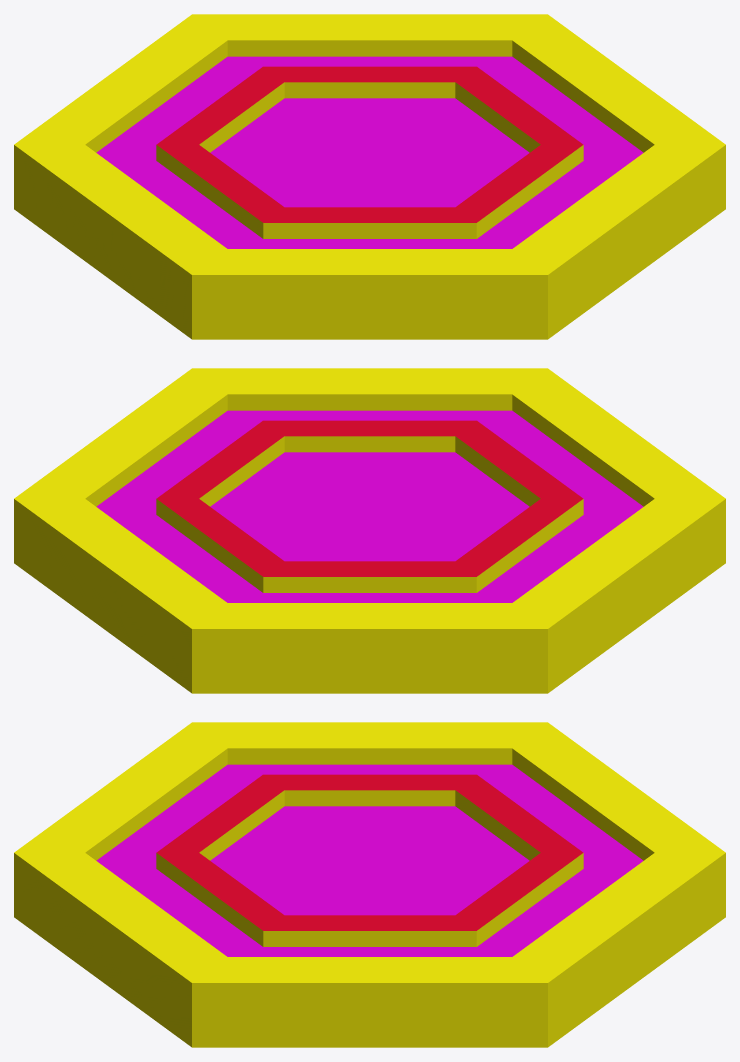
The model's file is uploads_files_721959_coins_pack.fbx.
3 renders of one model, top to bottom at view 1: azimuth 30°, elevation 25°; view 2: azimuth 150°, elevation 25°; view 3: azimuth 270°, elevation 25°, orthographic.
Parts seen in each view (by area): view 1: Cylinder.005; view 2: Cylinder.005; view 3: Cylinder.005.
Part boxes in pixels (bbox=[...]): Cylinder.005: bbox=[14, 14, 725, 339]; Cylinder.005: bbox=[14, 368, 725, 693]; Cylinder.005: bbox=[14, 722, 725, 1047].
Size of the model in its own units: 173 by 20 by 200.
